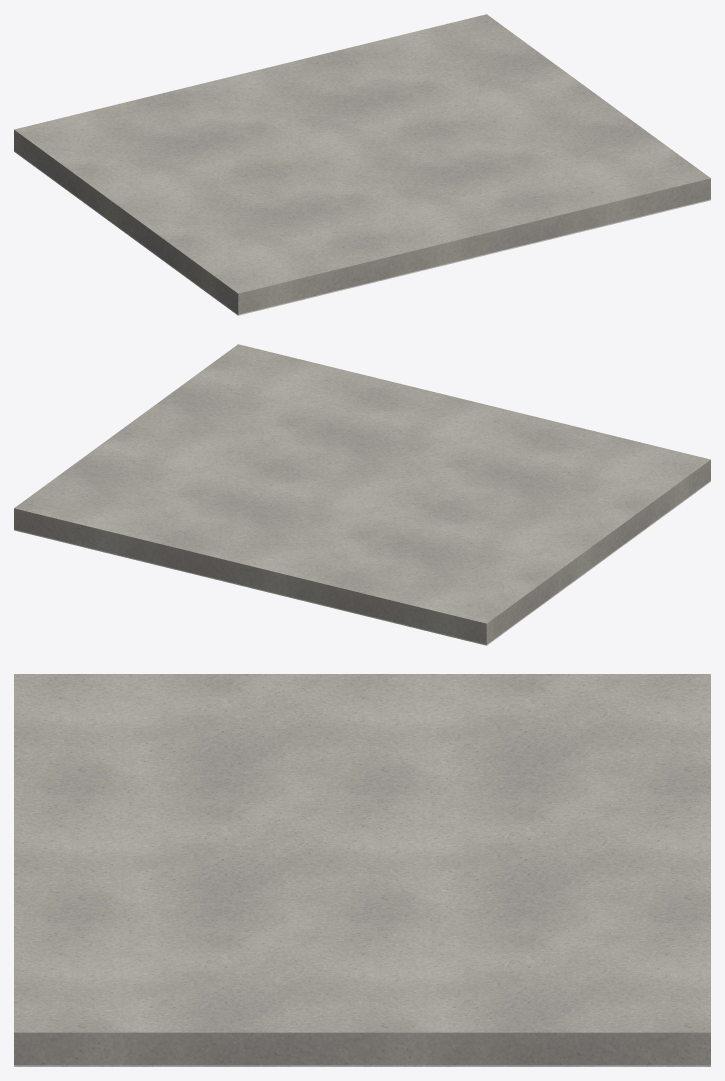
The model's file is cabin_slab.glb.
3 views of the same model, one above another, from view 1: azimuth 30°, elevation 25°; view 2: azimuth 150°, elevation 25°; view 3: azimuth 270°, elevation 25° (orthographic). The views are drawn at different scales.
Visible parts, largest first — view 1: cabin_slab_conc_s, cabin_slab_ceil; view 2: cabin_slab_conc_s, cabin_slab_ceil; view 3: cabin_slab_conc_s, cabin_slab_ceil.
Boxes of the visible parts, x1,y1,x2,y2 form: cabin_slab_conc_s: (14,14,710,314); cabin_slab_ceil: (14,151,710,315); cabin_slab_conc_s: (14,344,710,644); cabin_slab_ceil: (14,481,710,645); cabin_slab_conc_s: (14,674,710,1065); cabin_slab_ceil: (14,1065,710,1066).
Size of the model in its own units: 5.6 by 0.315 by 4.6.
4 materials, 2 textured.
